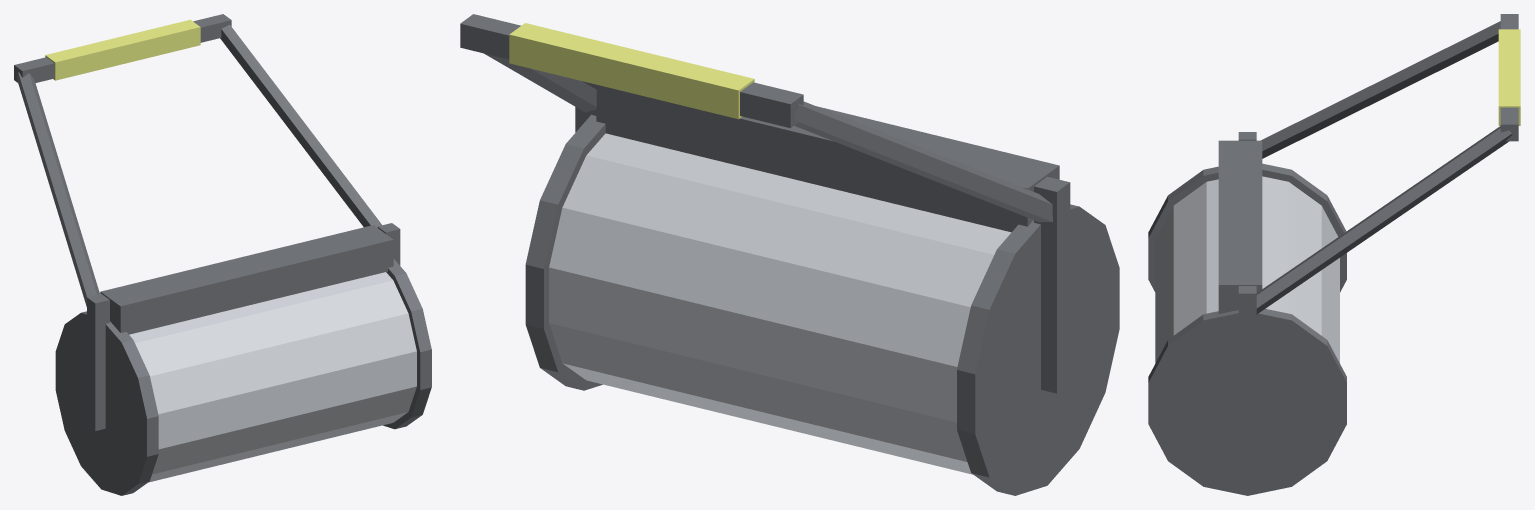
The model's file is tennis-club-and-courts-court-roller-a12afd94__33645.glb.
3 views of the same model, side by side, from view 1: azimuth 30°, elevation 25°; view 2: azimuth 150°, elevation 25°; view 3: azimuth 270°, elevation 25° (orthographic). The views are drawn at different scales.
Visible parts, largest first — view 1: roller-drum/steel, court-roller, roller-drum/charcoal; view 2: roller-drum/steel, court-roller, roller-drum/charcoal; view 3: roller-drum/charcoal, court-roller, roller-drum/steel.
Part boxes in pixels (x1=…): roller-drum/steel: x1=129, y1=272, x2=416, y2=482; court-roller: x1=14, y1=14, x2=400, y2=430; roller-drum/charcoal: x1=55, y1=259, x2=431, y2=495; roller-drum/steel: x1=549, y1=133, x2=1011, y2=474; court-roller: x1=460, y1=14, x2=1070, y2=393; roller-drum/charcoal: x1=525, y1=114, x2=1119, y2=495; roller-drum/charcoal: x1=1148, y1=163, x2=1346, y2=495; court-roller: x1=1218, y1=14, x2=1520, y2=431; roller-drum/steel: x1=1155, y1=176, x2=1339, y2=363.
Size of the model in its own units: 1.05 by 1.07 by 1.02.
